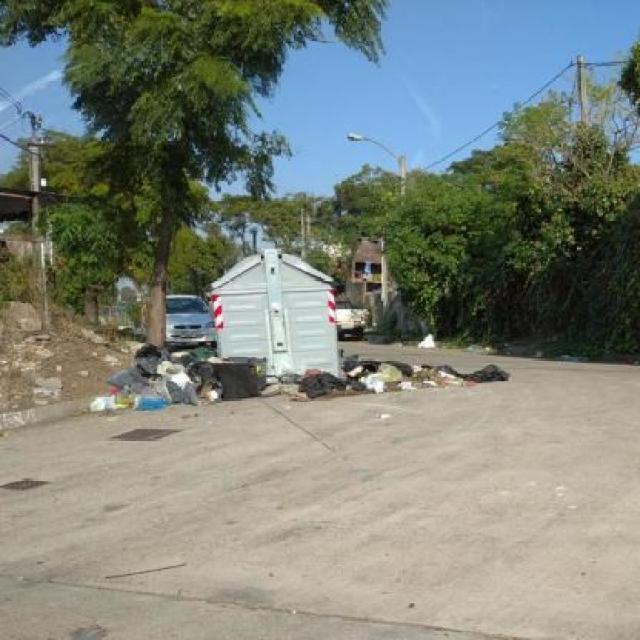garbage: (102, 336, 271, 416), (280, 360, 512, 399), (0, 332, 78, 409), (534, 341, 581, 364), (417, 331, 442, 349)
